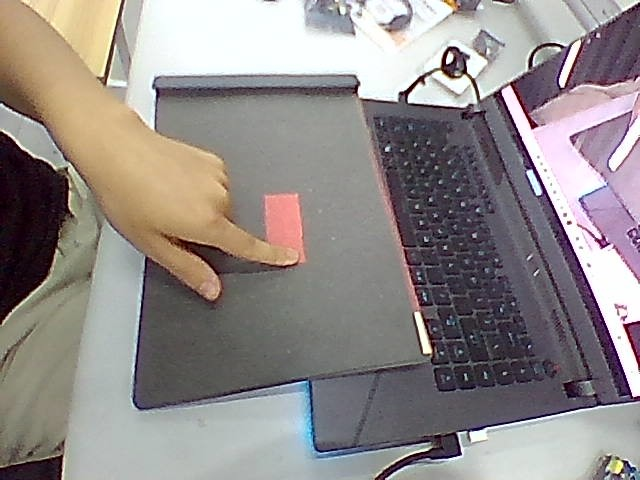card: (265, 195, 303, 262)
